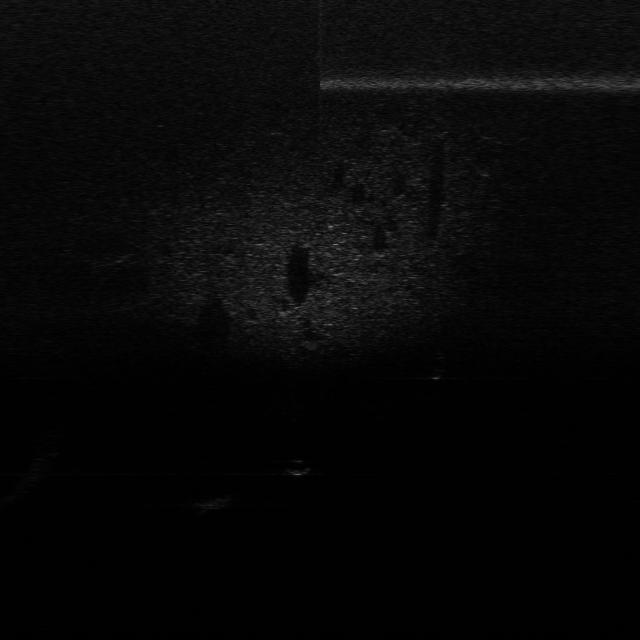ball: (280, 456, 316, 476)
square cage: (192, 490, 233, 510)
tyre: (422, 348, 448, 382)
